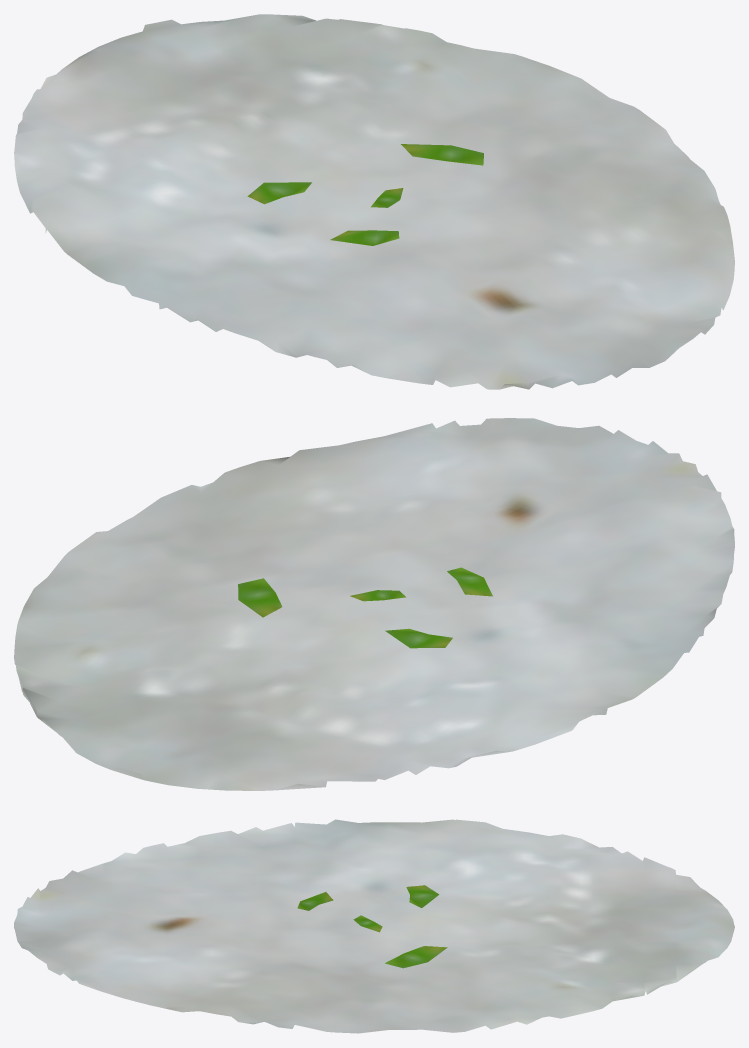
Rendered from Spoon_Soup.fbx.
3 views of the same model, one above another, from view 1: azimuth 30°, elevation 25°; view 2: azimuth 150°, elevation 25°; view 3: azimuth 270°, elevation 25° (orthographic). The views are drawn at different scales.
Visible parts, largest first — view 1: Spoon_Soup; view 2: Spoon_Soup; view 3: Spoon_Soup.
Boxes of the visible parts, x1=… form: Spoon_Soup: x1=14, y1=14, x2=734, y2=389; Spoon_Soup: x1=14, y1=418, x2=734, y2=790; Spoon_Soup: x1=14, y1=819, x2=734, y2=1033.
Size of the model in its own units: 0.0359 by 0.000654 by 0.0515.
